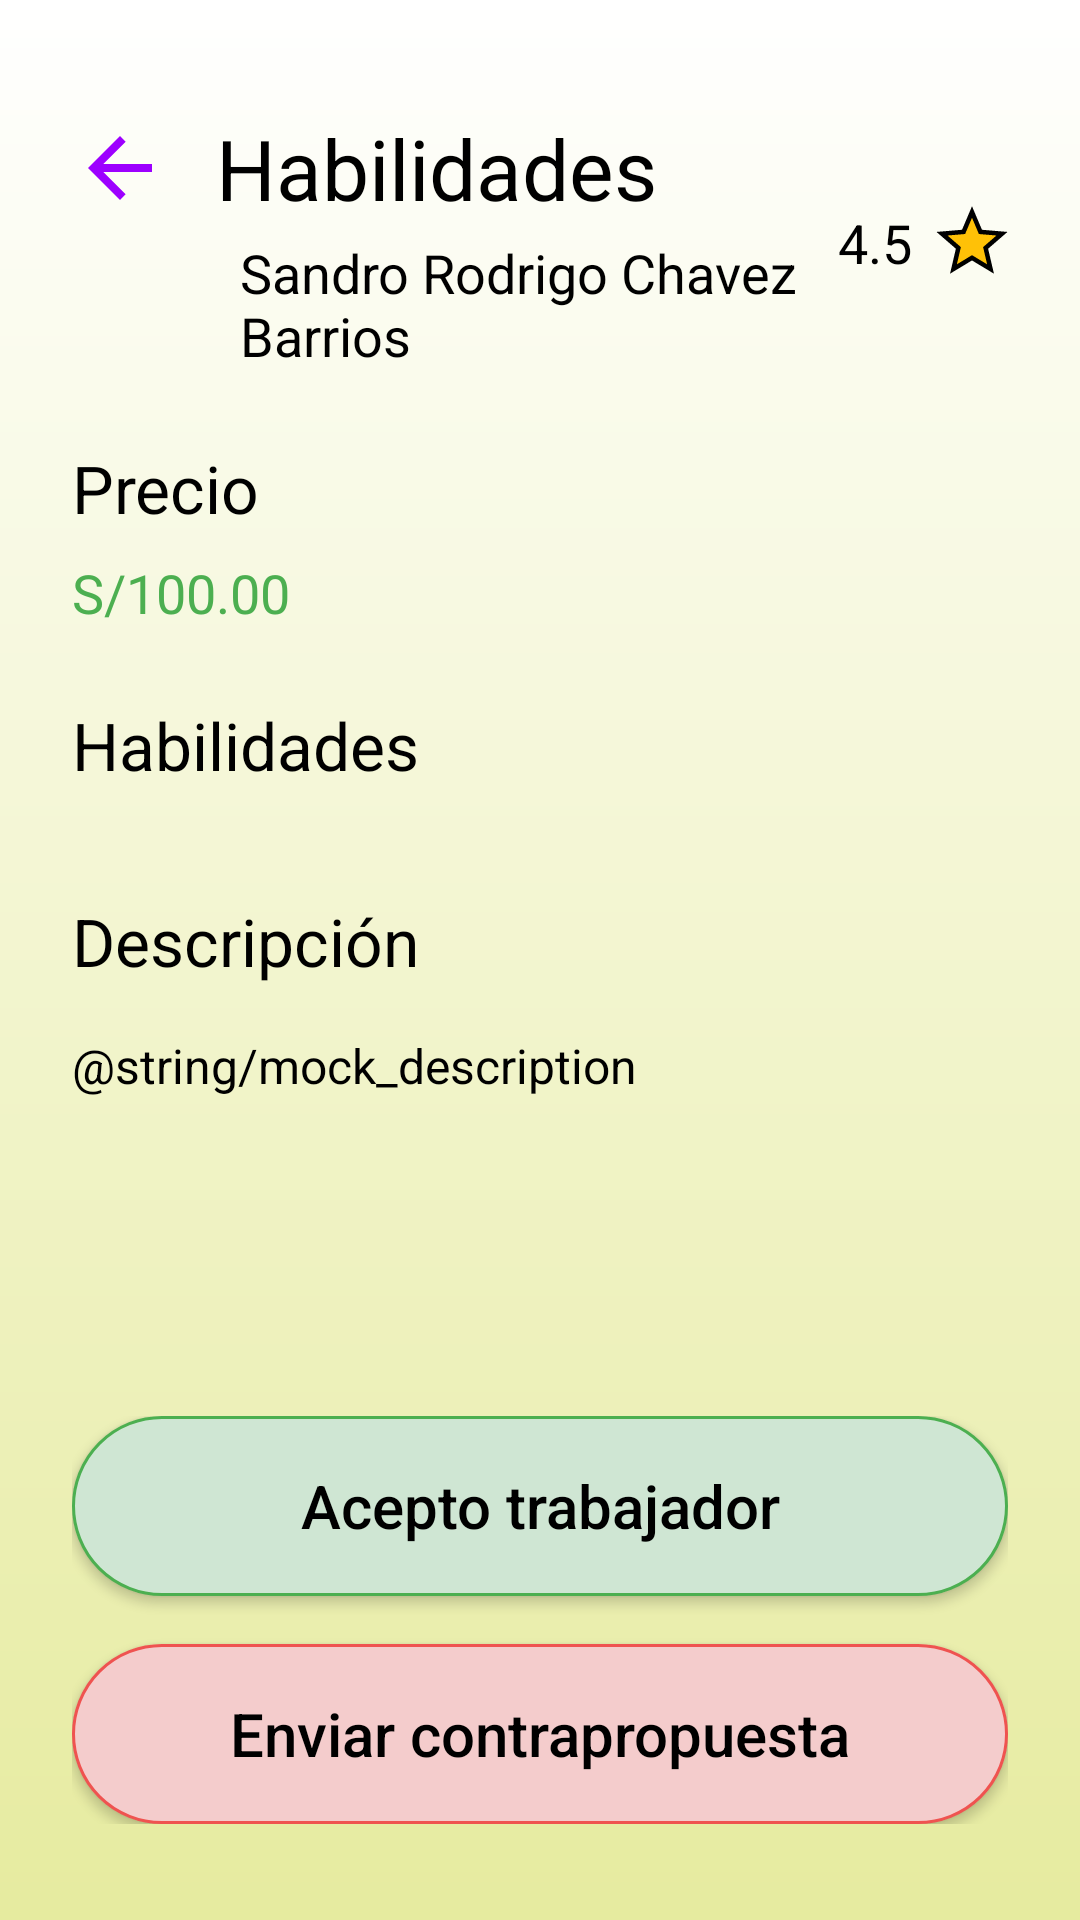

Locate icon controls on the screen. Image size 1080*1920, boxes as (x1, y1, x2, y2).
arrow back: (88, 136, 152, 200)
star: (937, 206, 1007, 274)
